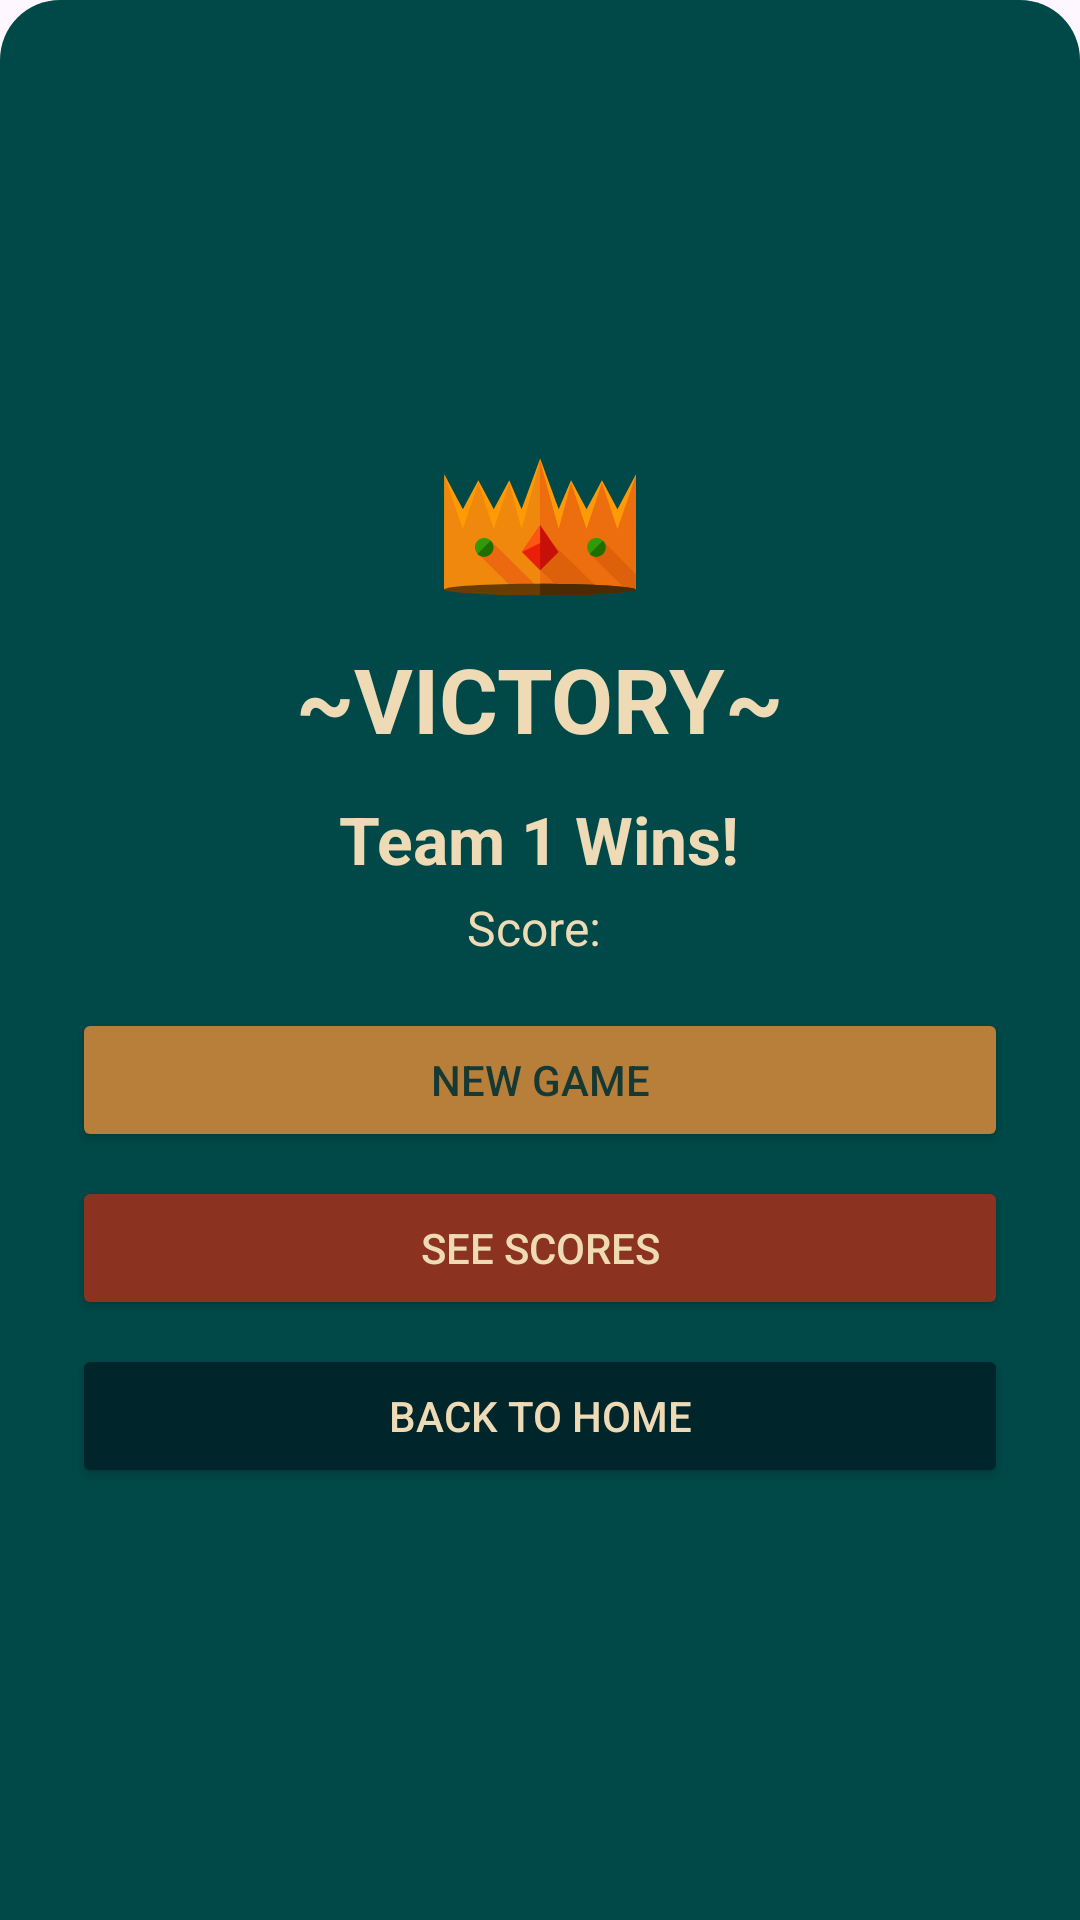

Where icons sit on this 1080 × 1920 app screen, as (left=x1, top=y1, right=x2, bottom=y2):
Crown: (left=444, top=458, right=636, bottom=596)
